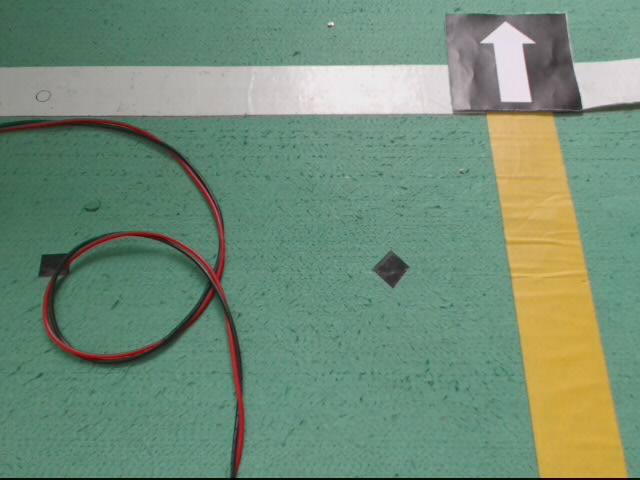straight: (445, 11, 580, 118)
